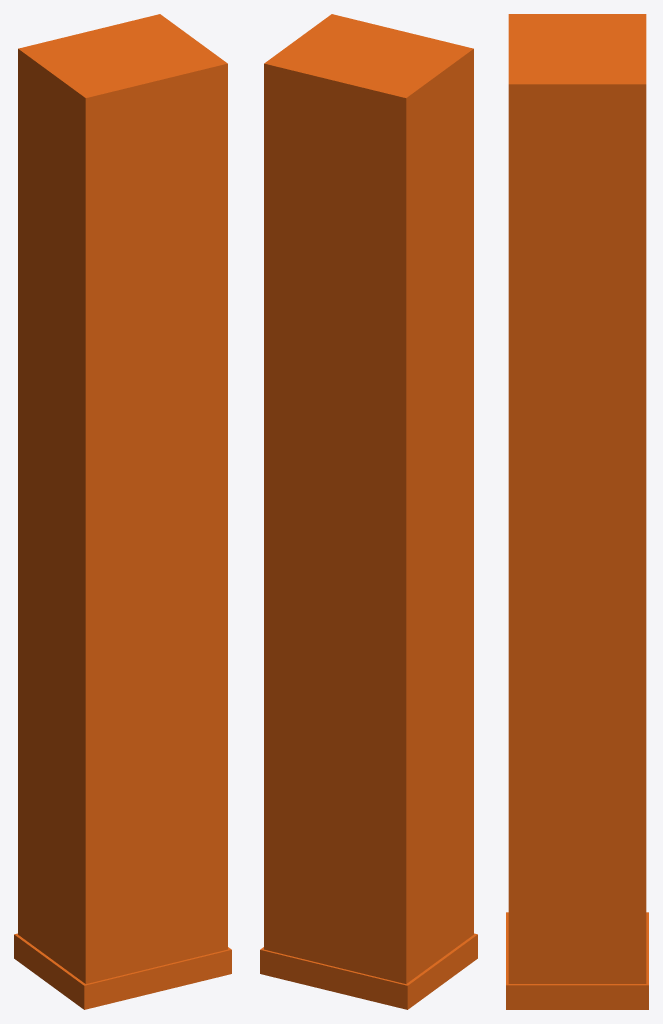
File: UsinePoutre.fbx
The picture shows the model from 3 angles, left to right: view 1: azimuth 30°, elevation 25°; view 2: azimuth 150°, elevation 25°; view 3: azimuth 270°, elevation 25°; orthographic projection.
Visible parts, largest first — view 1: UsinePoutre; view 2: UsinePoutre; view 3: UsinePoutre.
Part boxes in pixels (x1=…): UsinePoutre: x1=14, y1=14, x2=231, y2=1009; UsinePoutre: x1=260, y1=14, x2=477, y2=1009; UsinePoutre: x1=506, y1=14, x2=648, y2=1009.
Size of the model in its own units: 109 by 642 by 89.85.
